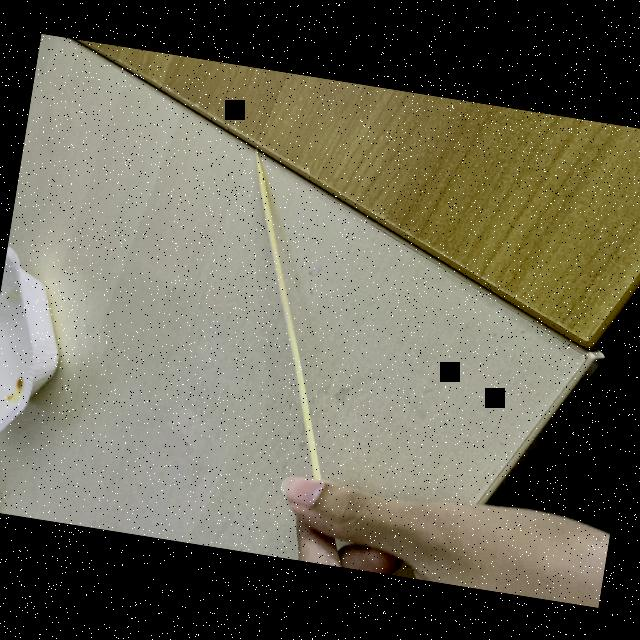cardboard_bowl: (0, 222, 100, 470)
stick: (156, 136, 420, 553)
